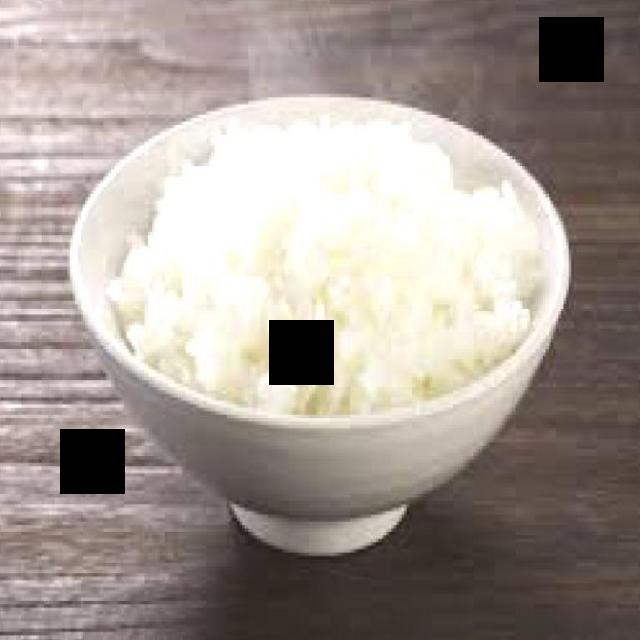Chicken -Chicken Inasal-: (115, 124, 540, 410)
